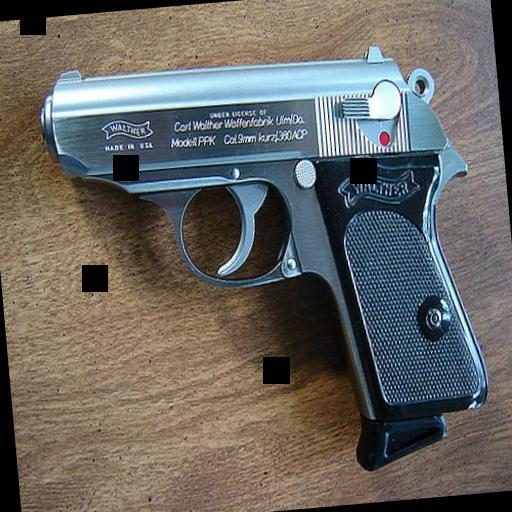Handgun: (34, 32, 496, 497)
